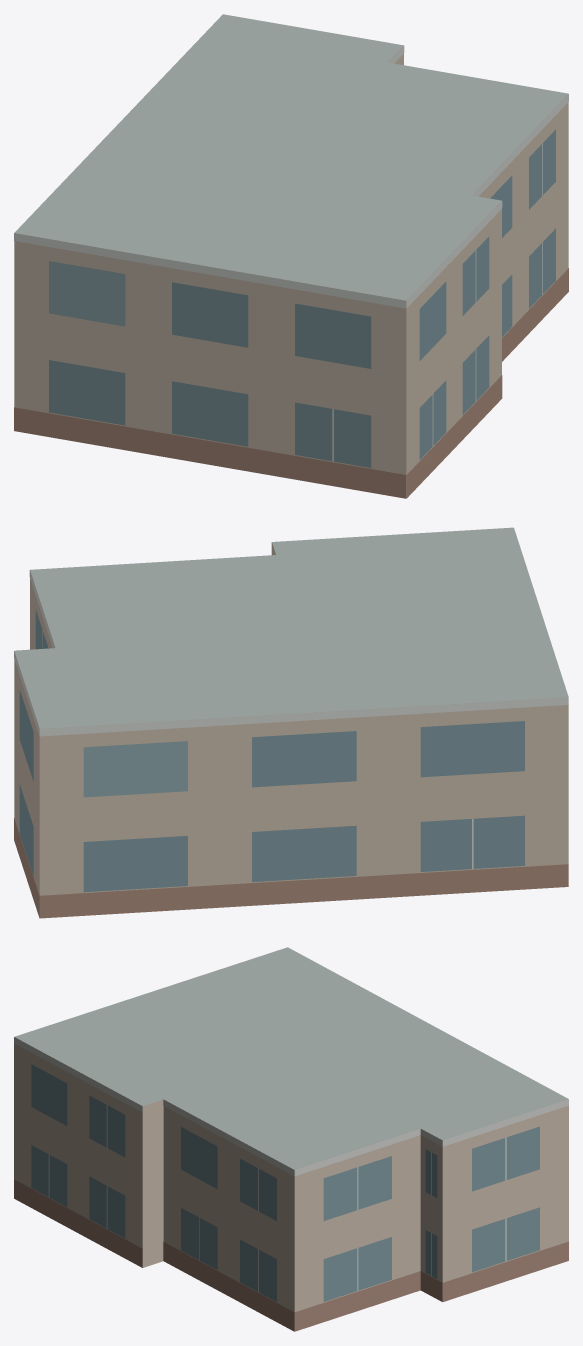
File: survey-upis-32780483.glb
The picture shows the model from 3 angles, top to bottom: view 1: azimuth 30°, elevation 25°; view 2: azimuth 150°, elevation 25°; view 3: azimuth 270°, elevation 25°; orthographic projection. The views are drawn at different scales.
Visible parts, largest first — view 1: survey-upis-32780483.tmp; view 2: survey-upis-32780483.tmp; view 3: survey-upis-32780483.tmp.
Part boxes in pixels (x1=…): survey-upis-32780483.tmp: x1=14, y1=14, x2=568, y2=498; survey-upis-32780483.tmp: x1=14, y1=527, x2=568, y2=918; survey-upis-32780483.tmp: x1=14, y1=947, x2=568, y2=1331.
Size of the model in its own units: 18.03 by 6.1 by 18.97.
